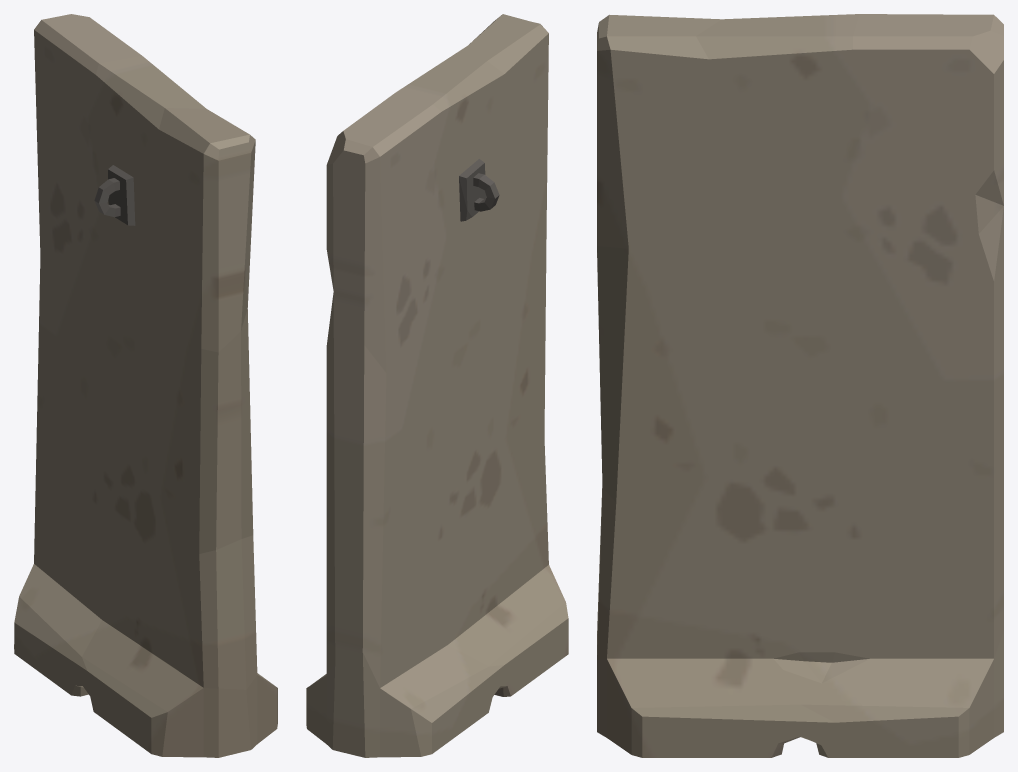
The model's file is SM_Prop_Barrier_Tall_02.glb.
3 views of the same model, side by side, from view 1: azimuth 30°, elevation 25°; view 2: azimuth 150°, elevation 25°; view 3: azimuth 270°, elevation 25° (orthographic). The views are drawn at different scales.
Visible parts, largest first — view 1: SM_Prop_Barrier_Tall_02; view 2: SM_Prop_Barrier_Tall_02; view 3: SM_Prop_Barrier_Tall_02.
Part boxes in pixels (left/top/right/bottom): SM_Prop_Barrier_Tall_02: left=14, top=14, right=277, bottom=757; SM_Prop_Barrier_Tall_02: left=306, top=14, right=568, bottom=757; SM_Prop_Barrier_Tall_02: left=597, top=14, right=1003, bottom=757.
Bounding box in the file's own units: 0.7003 × 3.26 × 1.72.
Materials: 1 (1 with a texture image).
